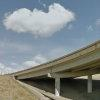Bridge: (11, 41, 98, 84)
